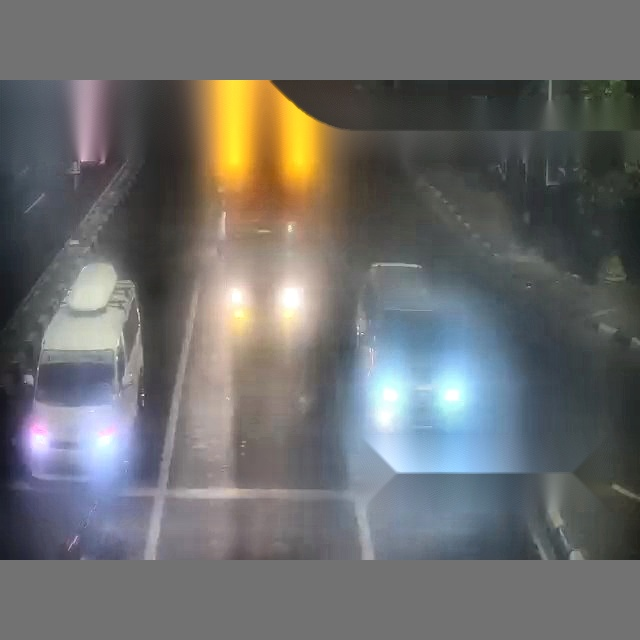Mobil: (24, 288, 142, 479)
